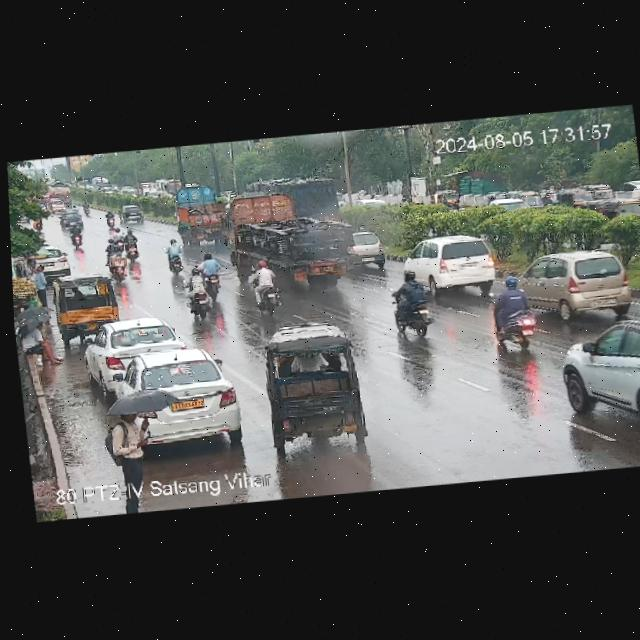car: (118, 342, 244, 453), (260, 324, 369, 449), (561, 313, 640, 438), (515, 249, 637, 318), (79, 315, 182, 389), (395, 228, 499, 301), (45, 271, 126, 328), (347, 226, 391, 266), (547, 189, 599, 218), (436, 185, 463, 210), (122, 204, 149, 226)
motorcycle: (486, 278, 543, 356), (391, 270, 437, 338), (249, 257, 283, 315), (185, 261, 215, 321), (200, 251, 227, 294), (125, 230, 144, 261), (167, 238, 183, 273), (61, 207, 84, 229), (67, 222, 85, 248), (105, 208, 117, 231)
person: (107, 407, 153, 510), (19, 319, 64, 371), (32, 262, 50, 301), (110, 243, 128, 279)
truck: (225, 186, 360, 285), (242, 173, 339, 233), (172, 183, 232, 249), (35, 174, 77, 204)
